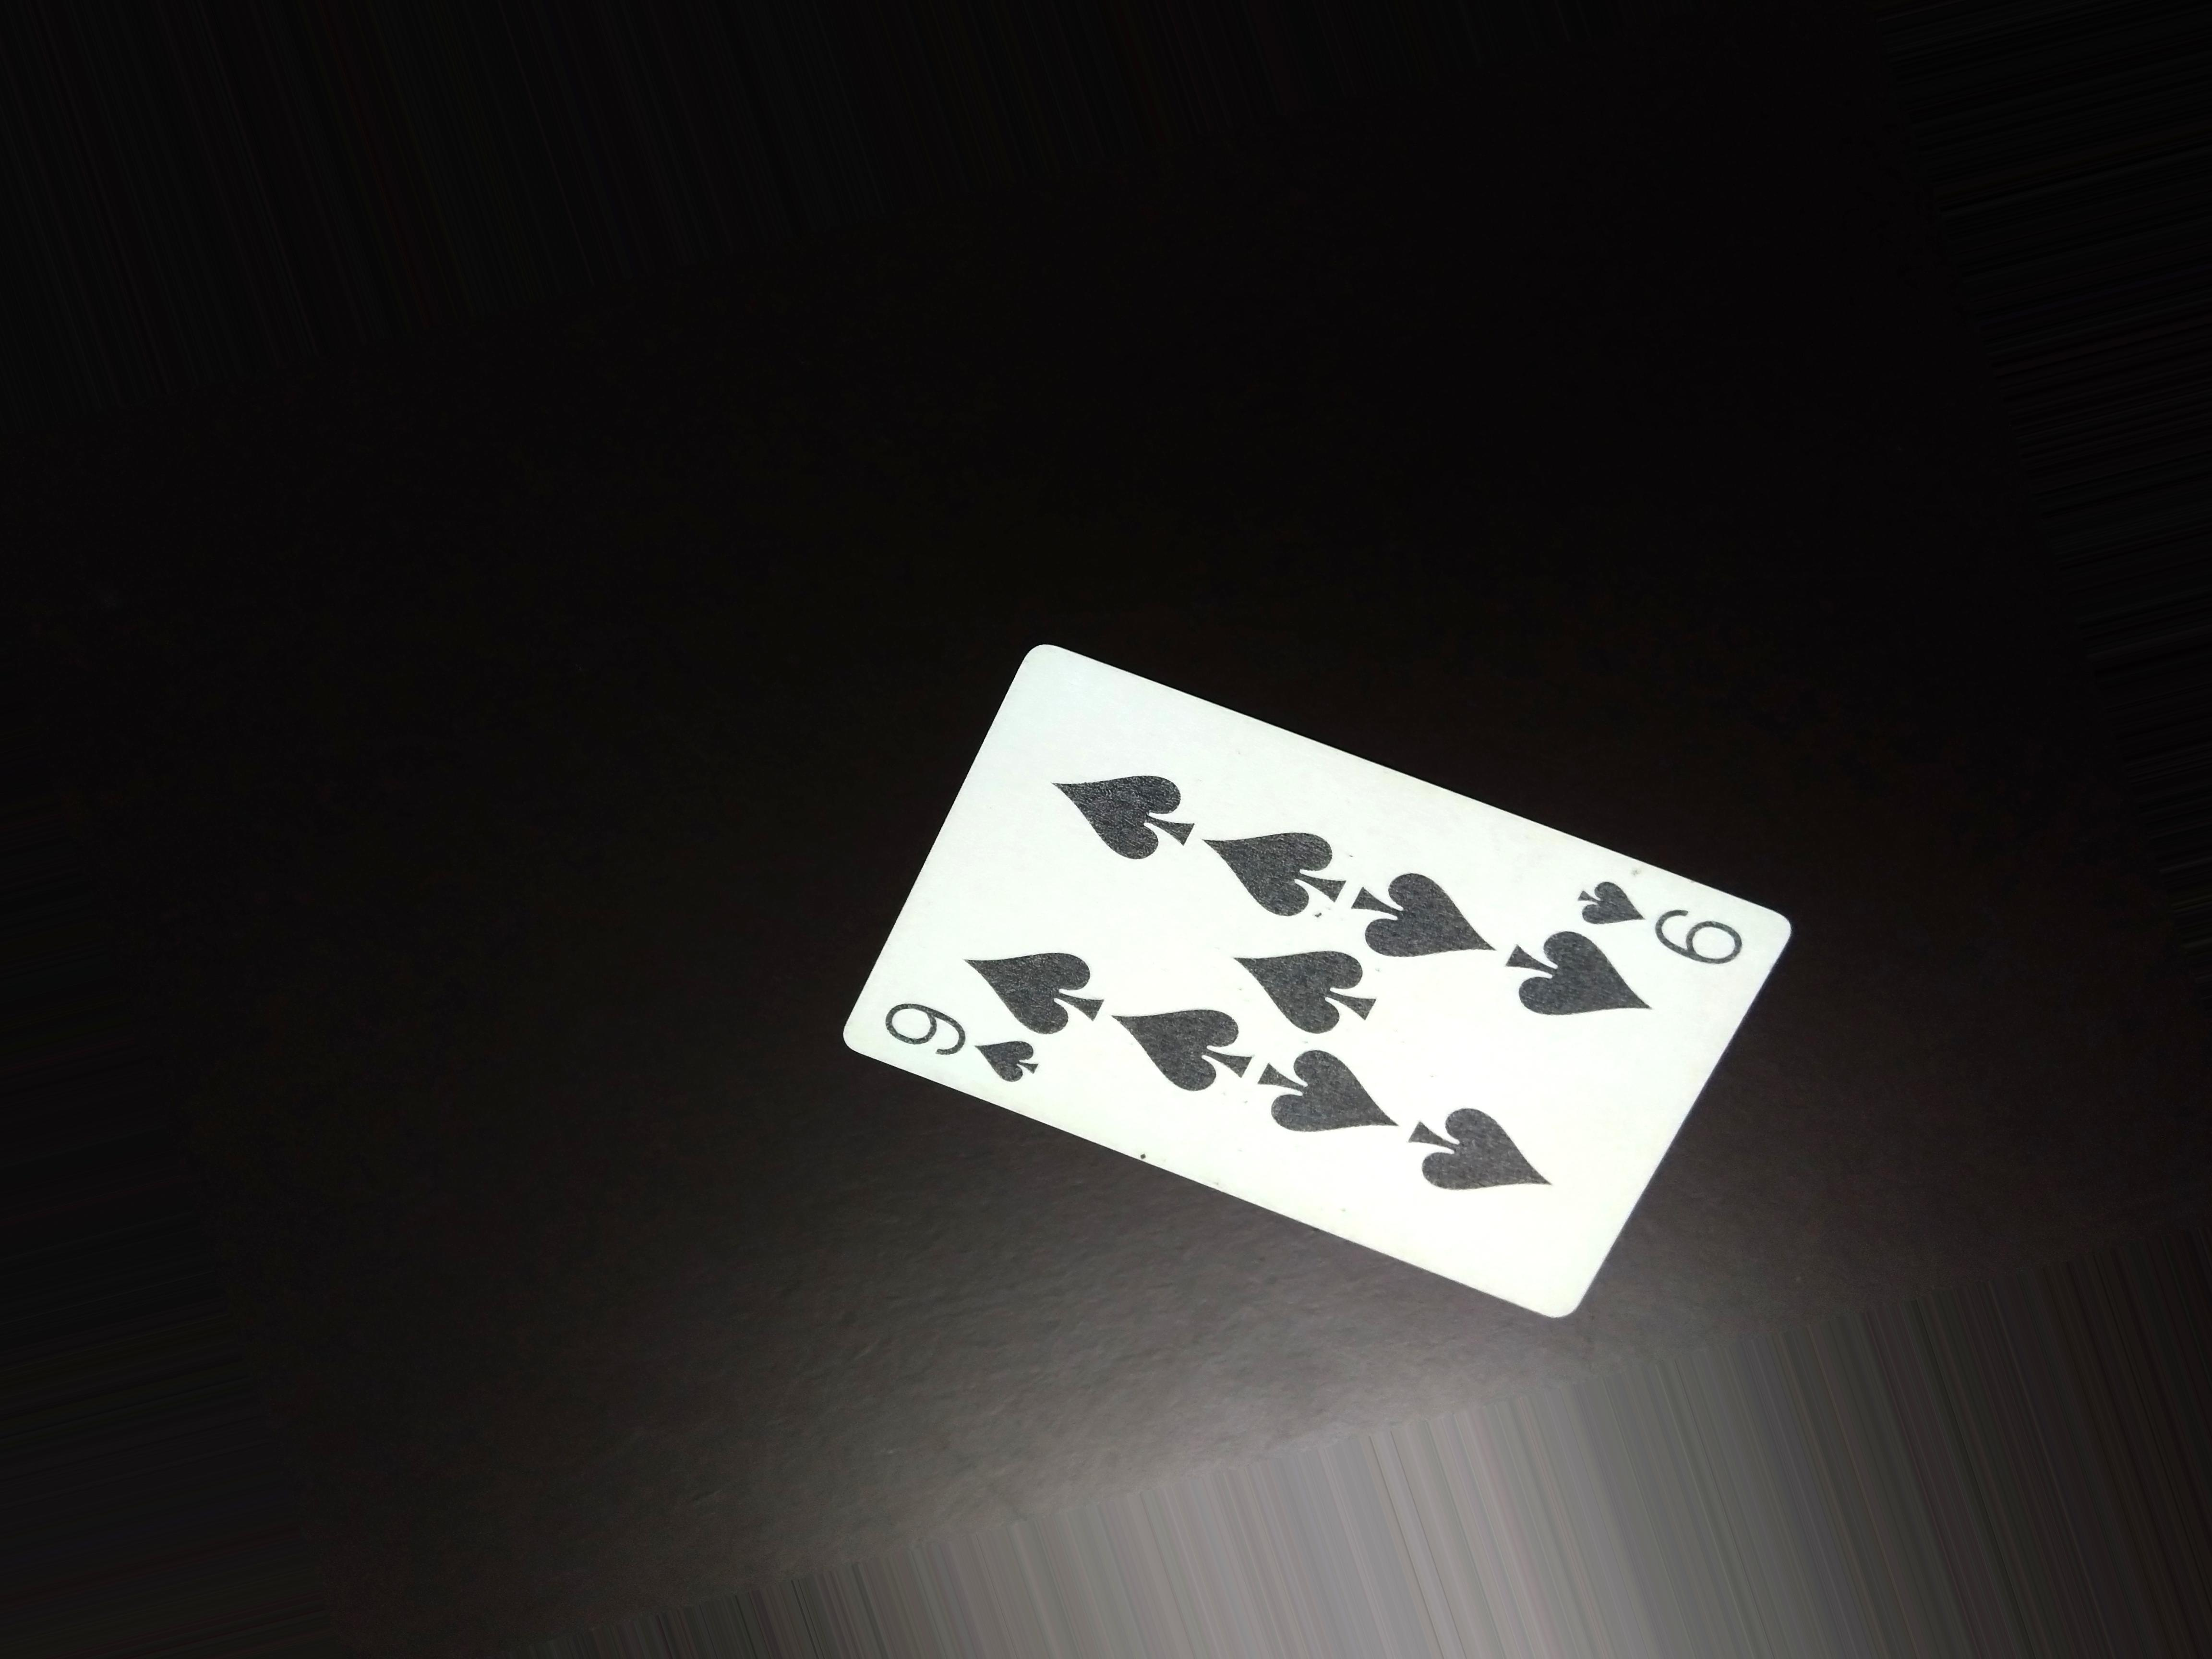9S: (1555, 866, 1756, 974)
